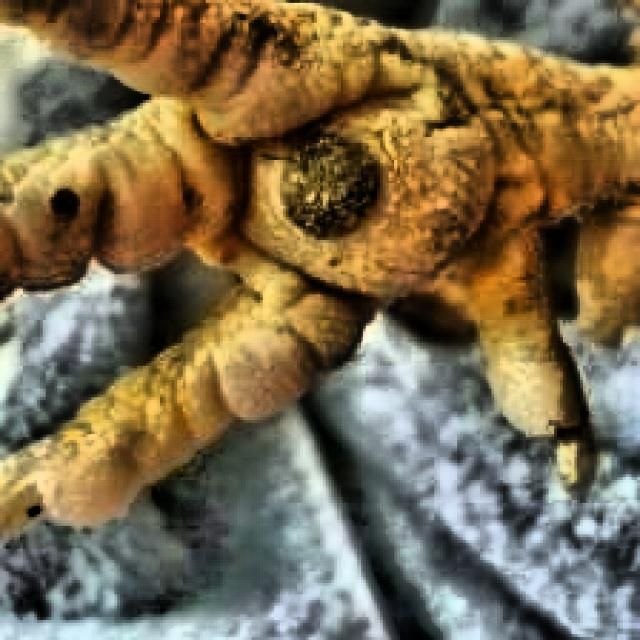Bumble foot: (155, 74, 518, 307)
